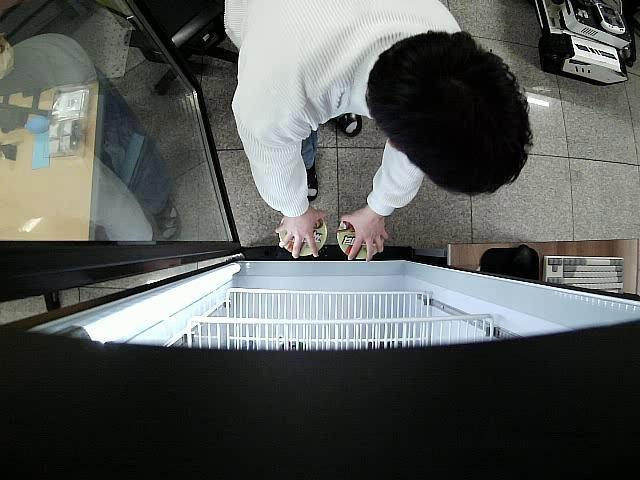03_chapagetti_L: (280, 216, 326, 255), (338, 221, 378, 260)
